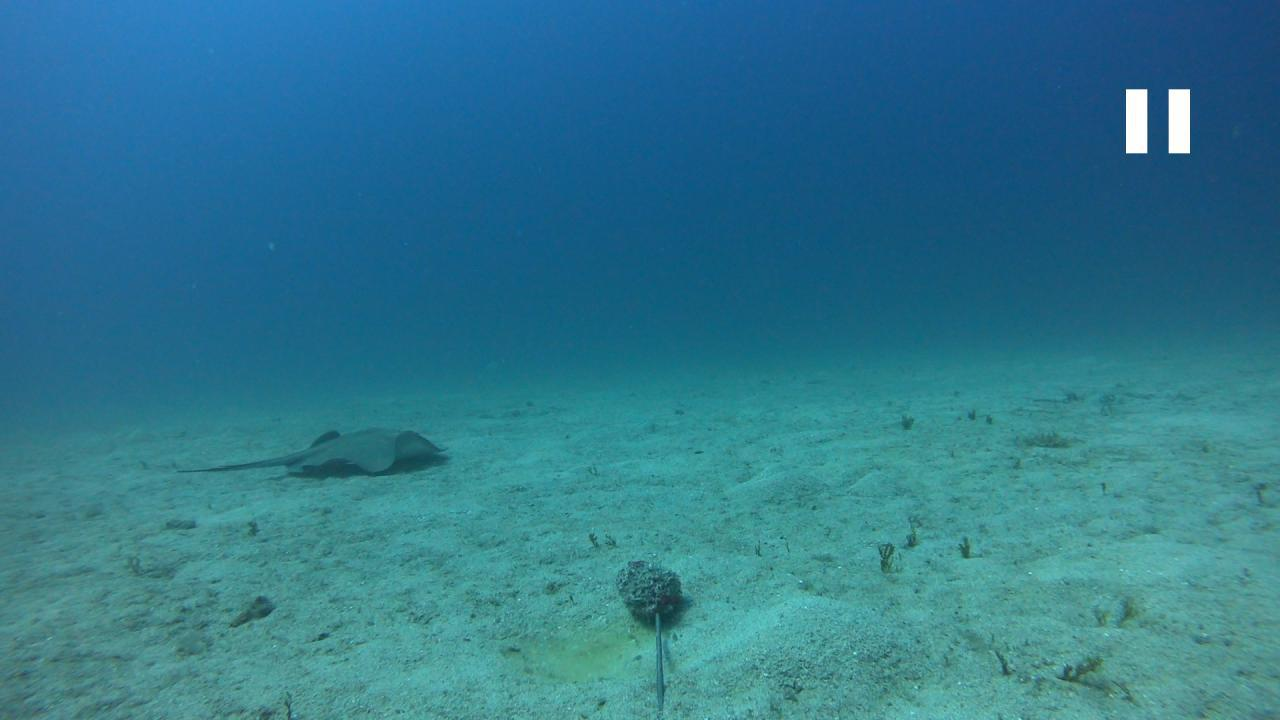dasyatis: (173, 425, 448, 474)
